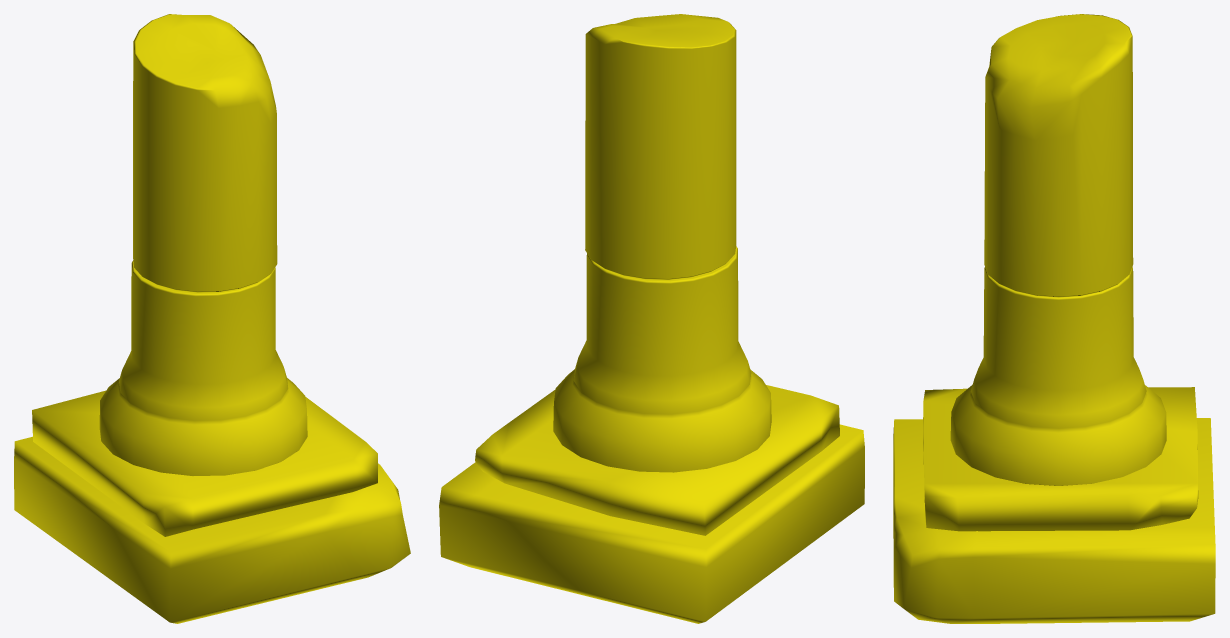
Rendered from Pillar_04_Lod0.fbx.
3 renders of one model, left to right at view 1: azimuth 30°, elevation 25°; view 2: azimuth 150°, elevation 25°; view 3: azimuth 270°, elevation 25°, orthographic. The views are drawn at different scales.
Visible parts, largest first — view 1: Pillar_04_Lod0; view 2: Pillar_04_Lod0; view 3: Pillar_04_Lod0.
Part boxes in pixels (x1,y1,x2,y2): Pillar_04_Lod0: [14, 14, 410, 623]; Pillar_04_Lod0: [439, 14, 864, 623]; Pillar_04_Lod0: [893, 14, 1215, 623].
Bounding box in the file's own units: 563 × 1074 × 594.
